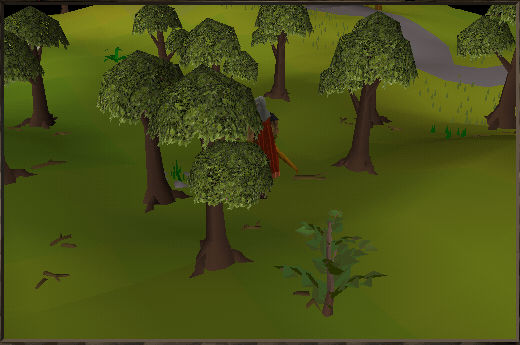Tree: (165, 71, 262, 277), (316, 15, 422, 185), (103, 58, 188, 210), (1, 0, 85, 128), (470, 2, 519, 136), (248, 0, 303, 102)
